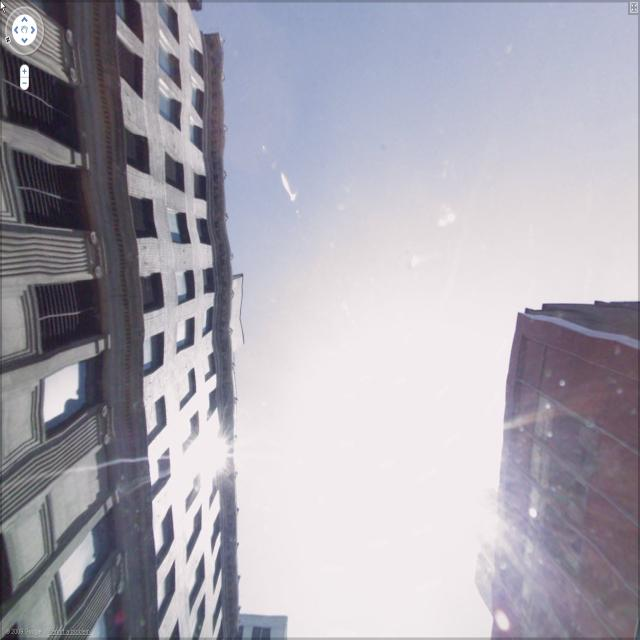b_1: (0, 16, 242, 630), (481, 297, 640, 638), (235, 609, 293, 640)
